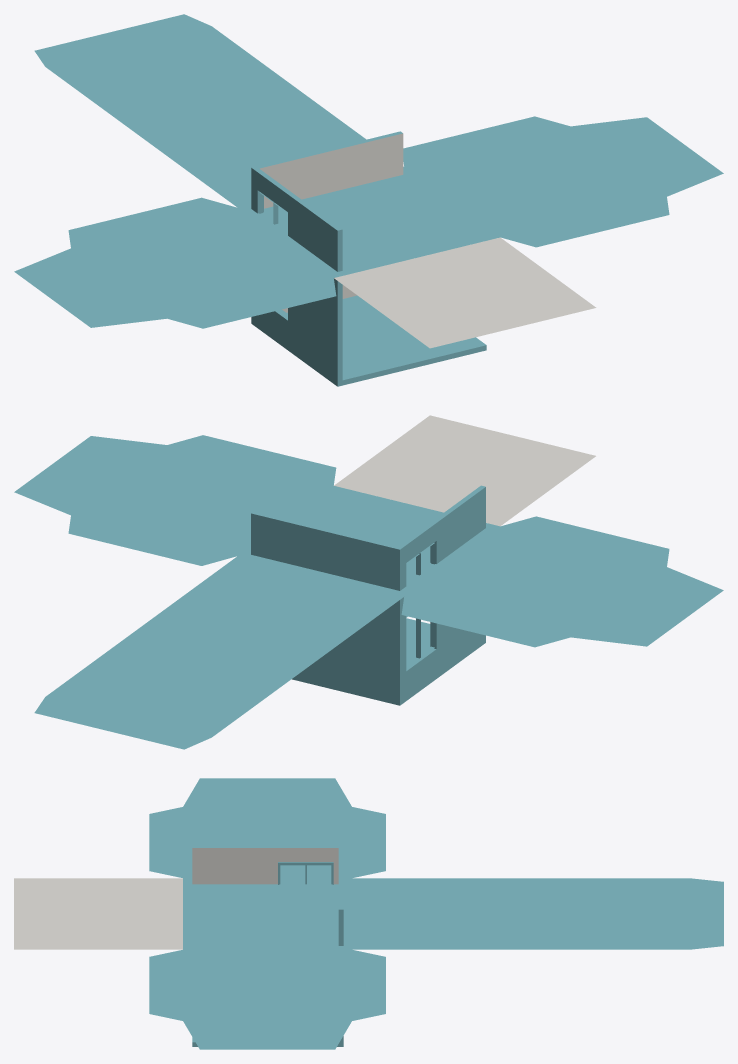
Rendered from website ver2 beta.glb.
3 views of the same model, one above another, from view 1: azimuth 30°, elevation 25°; view 2: azimuth 150°, elevation 25°; view 3: azimuth 270°, elevation 25° (orthographic). The views are drawn at different scales.
Visible parts, largest first — view 1: Plane, Body; view 2: Plane, Body; view 3: Plane, Body.
Boxes of the visible parts, <box> form: Plane: <box>14,14,723,348</box>; Body: <box>251,131,486,386</box>; Plane: <box>14,415,723,749</box>; Body: <box>251,485,485,705</box>; Plane: <box>14,778,723,1049</box>; Body: <box>192,846,343,1046</box>.
Size of what is drawn, in the model's own units: 66.5 by 20.76 by 73.5.
